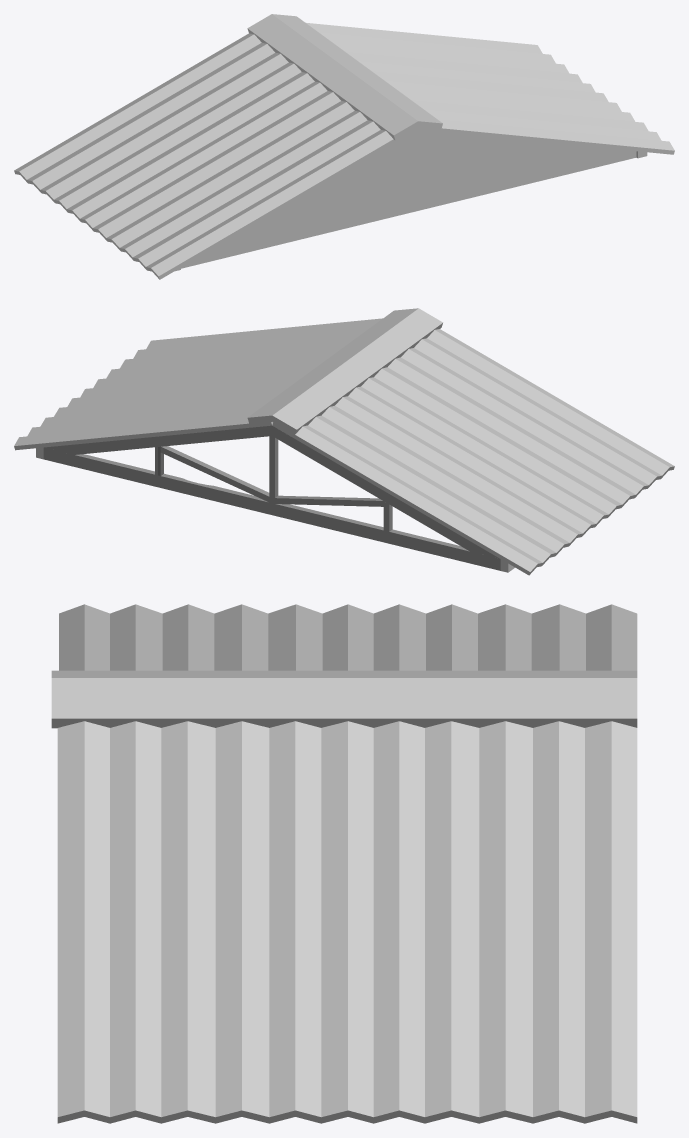
File: Wh_Roof_End_12m.fbx
3 views of the same model, one above another, from view 1: azimuth 30°, elevation 25°; view 2: azimuth 150°, elevation 25°; view 3: azimuth 270°, elevation 25° (orthographic). The views are drawn at different scales.
Parts seen in each view (by area): view 1: Cube.1068; view 2: Cube.1068; view 3: Cube.1068.
Boxes of the visible parts, left/top/right/bottom form: Cube.1068: left=14, top=14, right=674, bottom=279; Cube.1068: left=14, top=308, right=674, bottom=575; Cube.1068: left=51, top=604, right=637, bottom=1123.
Size of the model in its own units: 1363 by 250 by 667.
